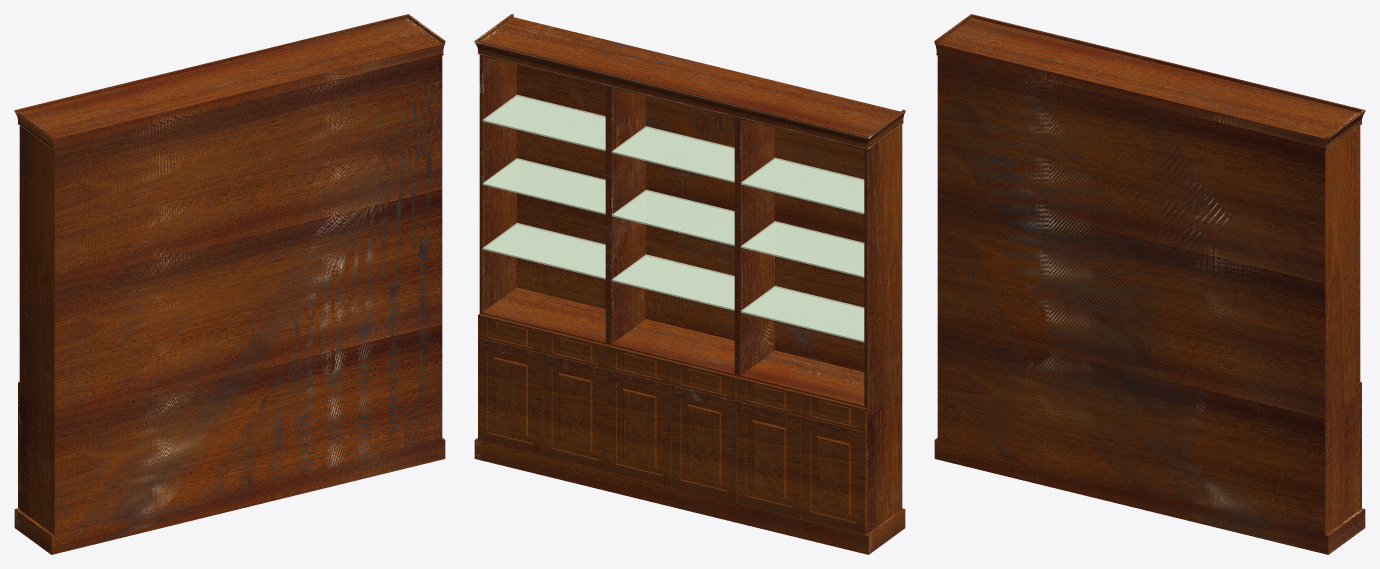
The picture shows the model from 3 angles, left to right: view 1: azimuth 30°, elevation 25°; view 2: azimuth 150°, elevation 25°; view 3: azimuth 330°, elevation 25°; orthographic projection.
Parts seen in each view (by area): view 1: mesh13_mesh13-geometry; view 2: mesh13_mesh13-geometry, mesh1_mesh1-geometry; view 3: mesh13_mesh13-geometry.
Boxes of the visible parts, x1,y1,x2,y2 form: mesh13_mesh13-geometry: [14, 14, 445, 554]; mesh13_mesh13-geometry: [474, 14, 905, 554]; mesh1_mesh1-geometry: [478, 313, 866, 534]; mesh13_mesh13-geometry: [934, 14, 1365, 554].
Size of the model in its own units: 0.6983 by 0.7068 by 0.1132.
